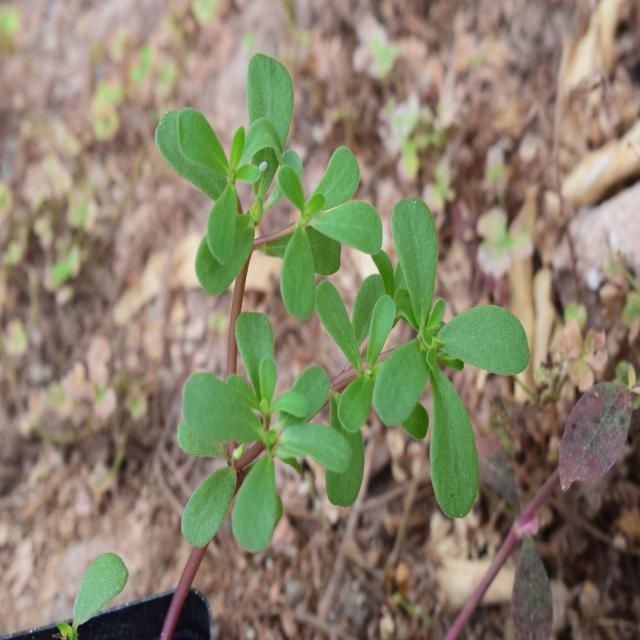purslane: (120, 69, 494, 554)
